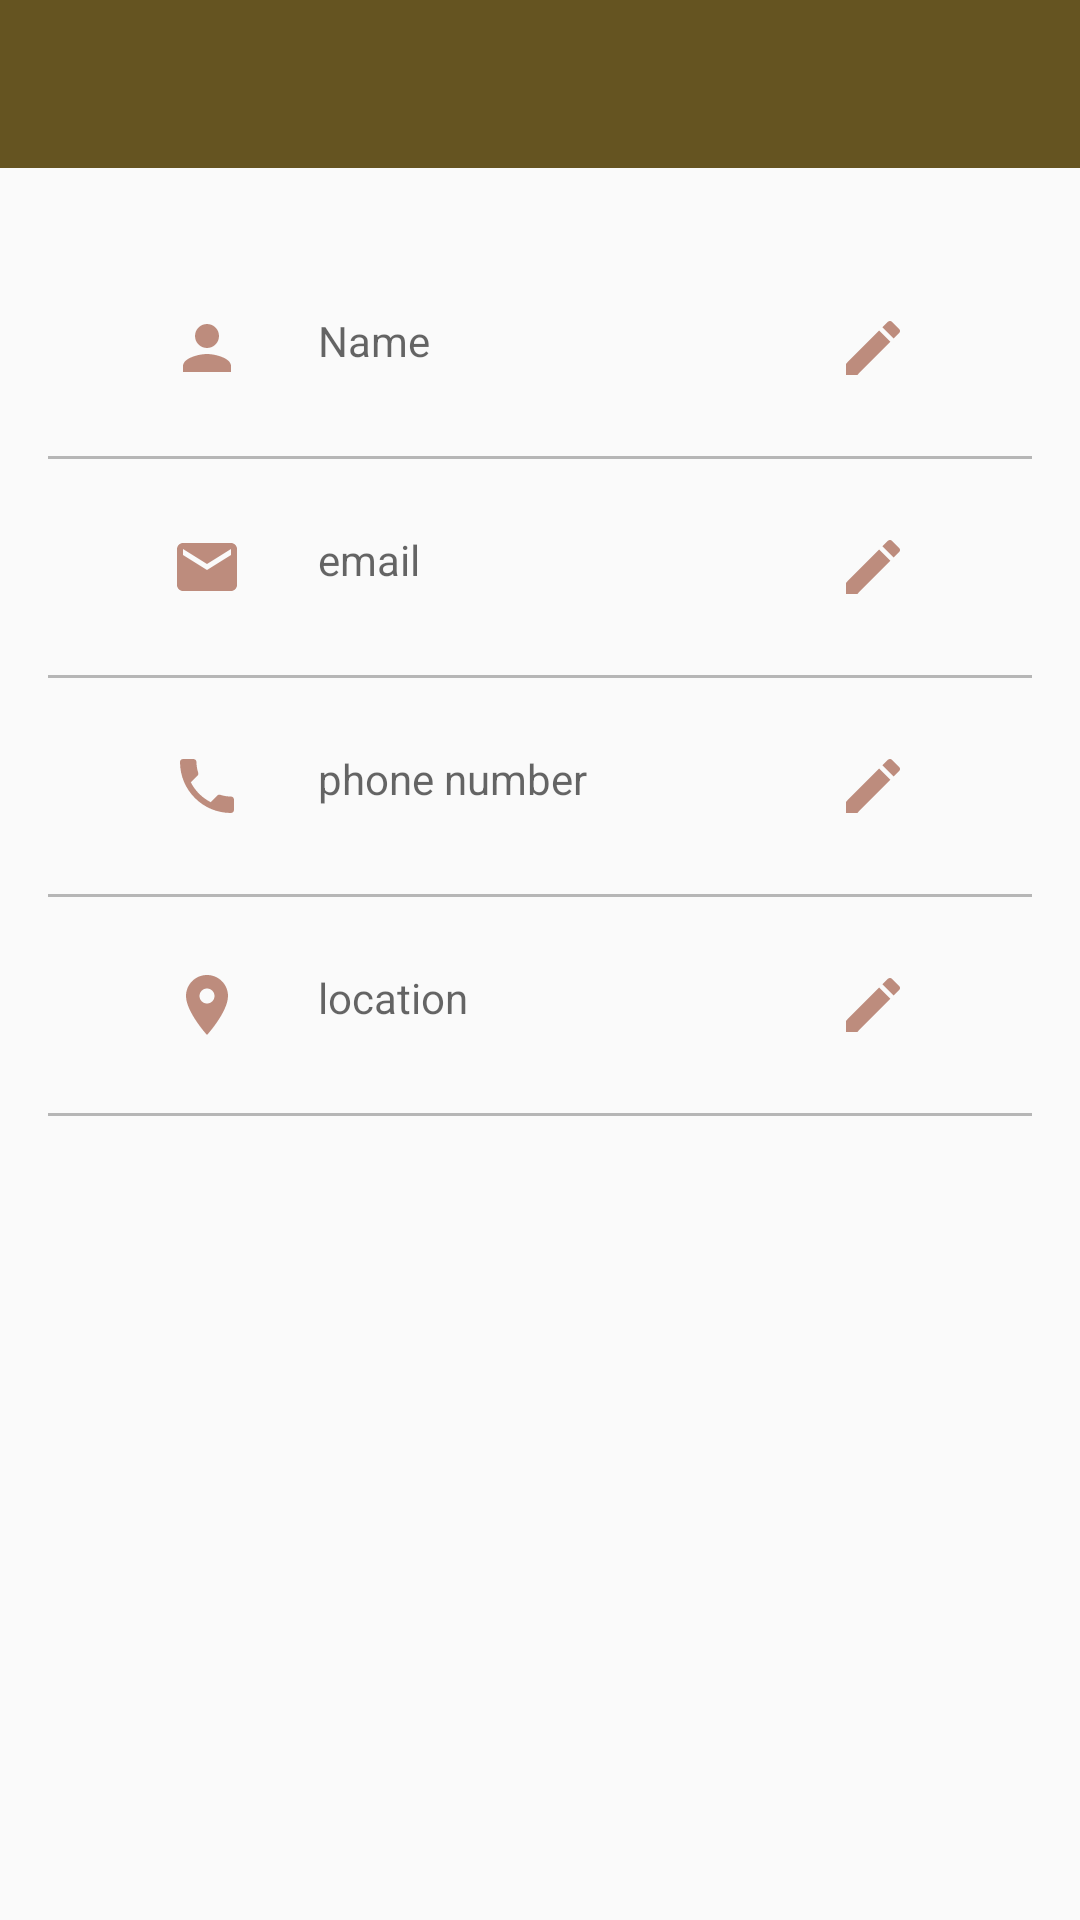

Locate icon controls on the screen. Image size 1080px x 1920px, boxes as BBox(x1, y1, x2, y2).
edit: BBox(846, 321, 900, 375), BBox(846, 540, 900, 594), BBox(846, 759, 900, 813), BBox(846, 978, 900, 1032)
person: BBox(183, 324, 231, 372)
